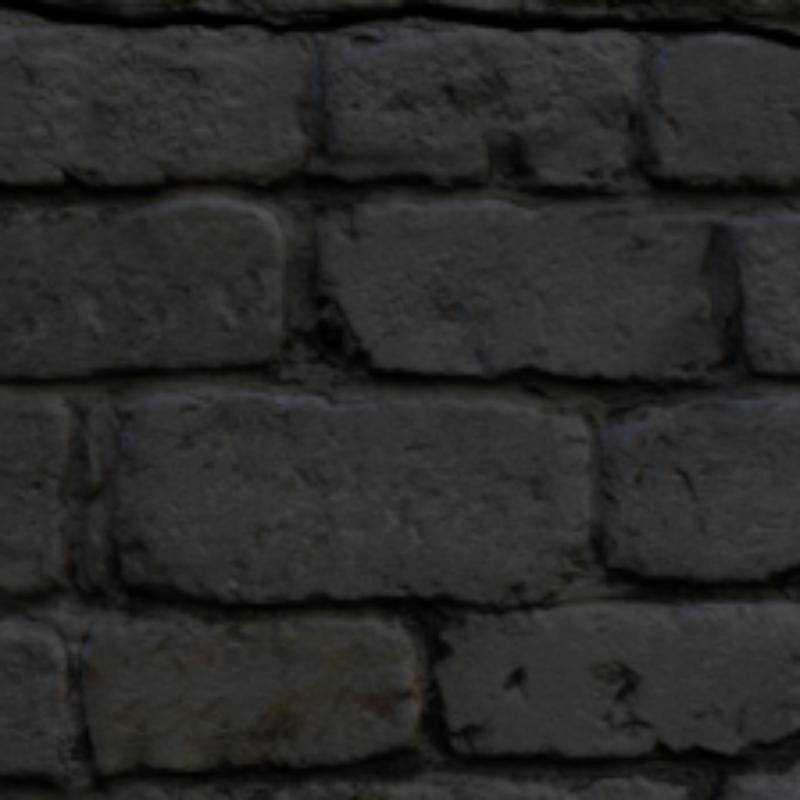crack: (0, 0, 796, 46)
